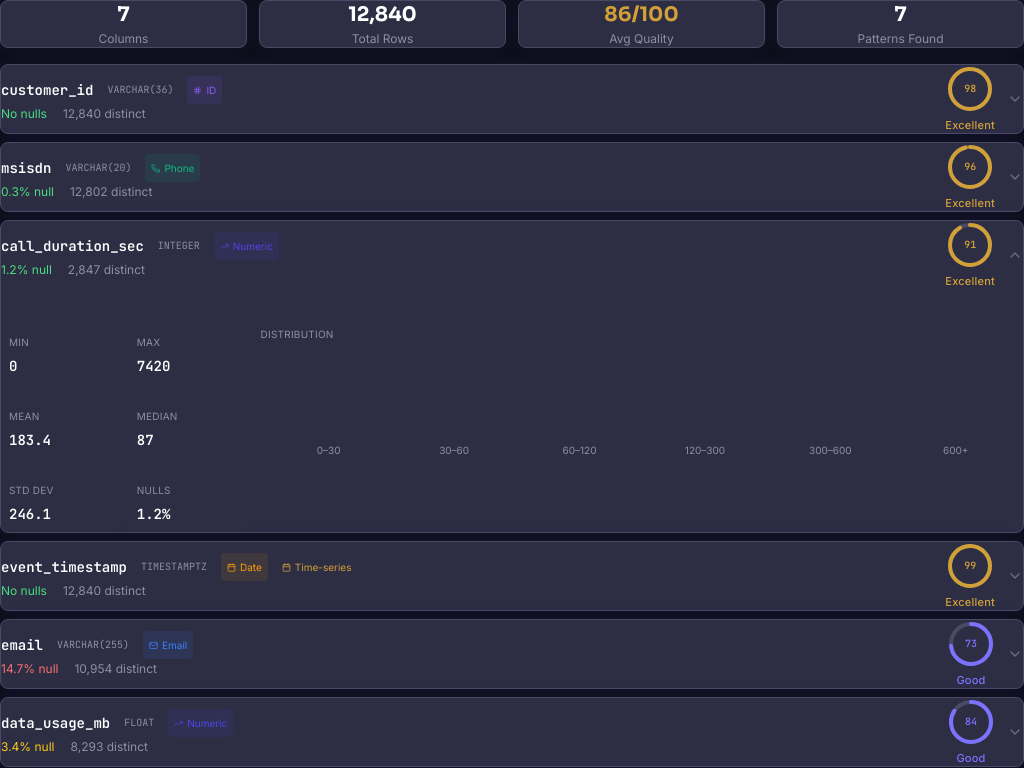
Test case: ProfilerPanel (integration) › collapses expanded column on click
This screenshot has width=1024, height=768.
Click the button "call_duration_sec" at {"x": 72, "y": 246}, box [1,221,1023,289]
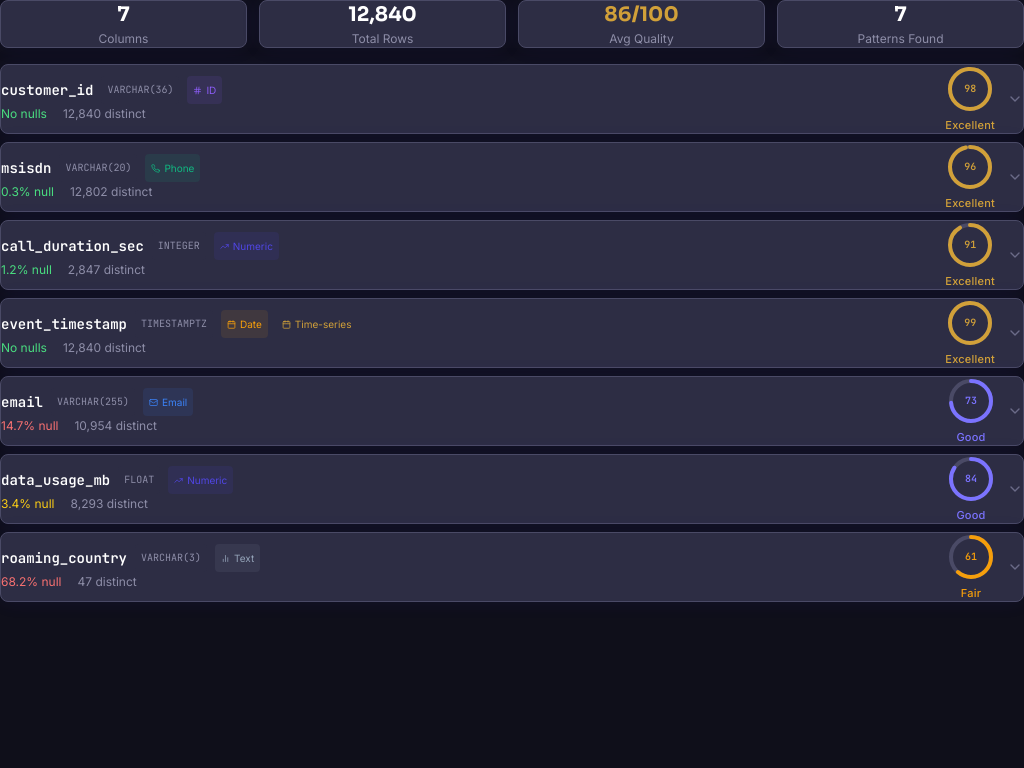
Result: the text "Std Dev" is gone
